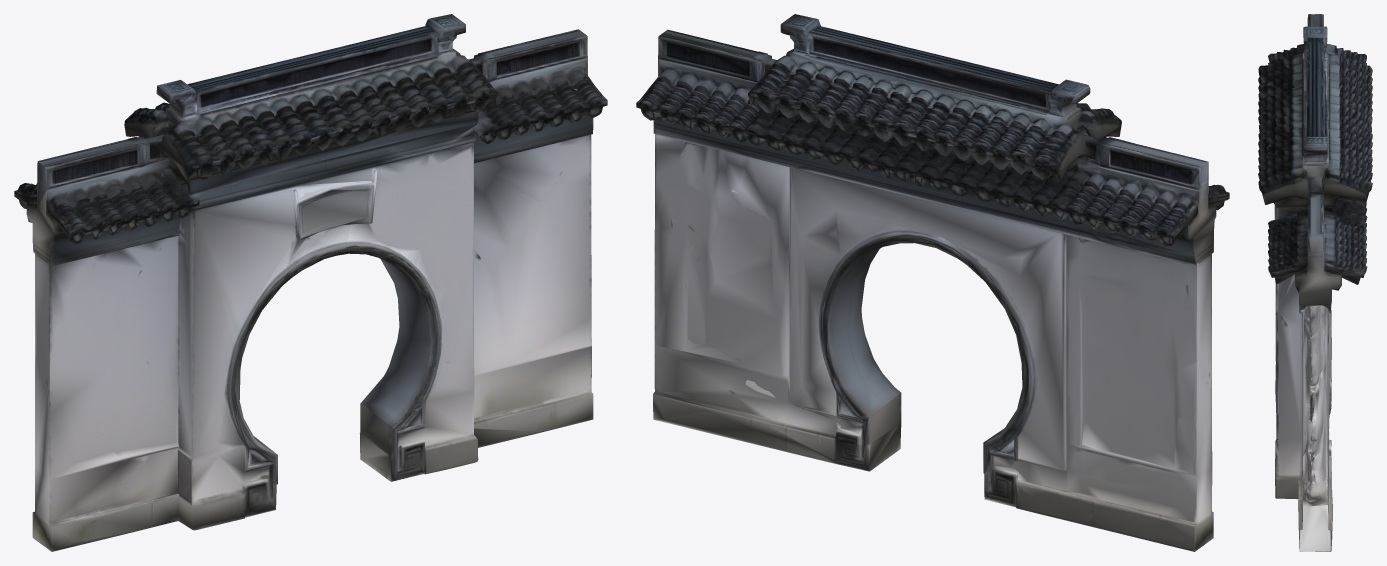
File: moonGate.glb
3 views of the same model, side by side, from view 1: azimuth 30°, elevation 25°; view 2: azimuth 150°, elevation 25°; view 3: azimuth 270°, elevation 25° (orthographic). The views are drawn at different scales.
Parts seen in each view (by area): view 1: node_0; view 2: node_0; view 3: node_0.
Part boxes in pixels (x1=…): node_0: x1=14, y1=14, x2=607, y2=551; node_0: x1=636, y1=14, x2=1229, y2=551; node_0: x1=1258, y1=14, x2=1372, y2=551.
Size of the model in its own units: 2.93 by 2.2 by 0.6438.
1 material, 1 textured.
